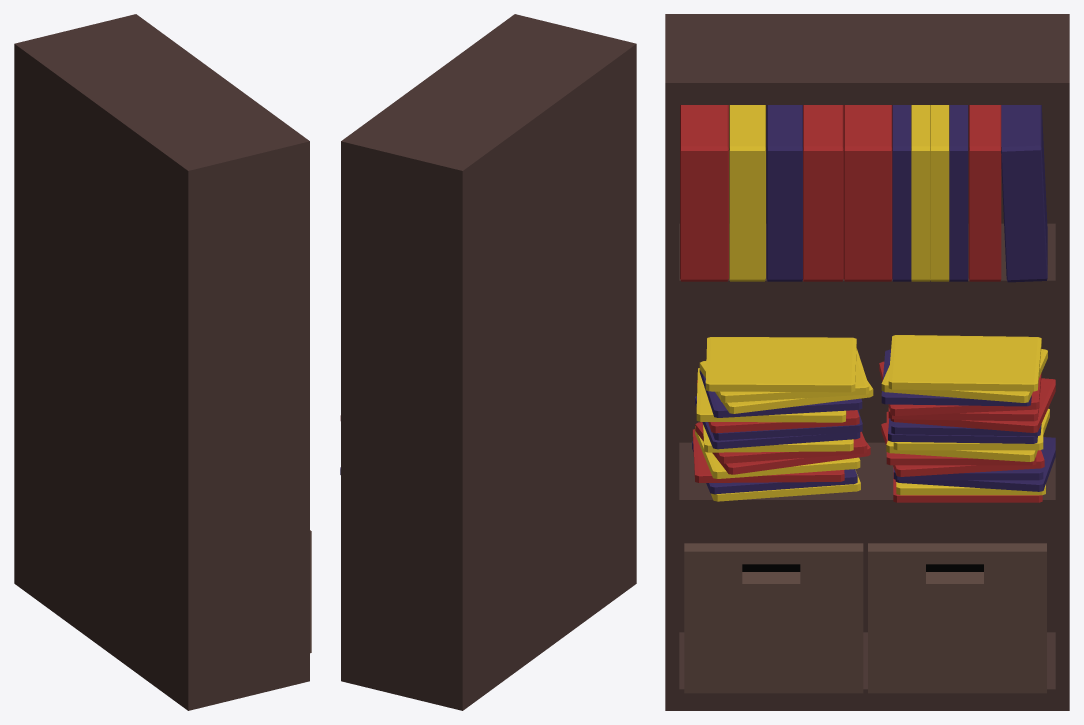
The model's file is bookShelf.fbx.
The picture shows the model from 3 angles, left to right: view 1: azimuth 30°, elevation 25°; view 2: azimuth 150°, elevation 25°; view 3: azimuth 270°, elevation 25°; orthographic projection. The views are drawn at different scales.
Parts seen in each view (by area): view 1: Cube; view 2: Cube; view 3: Cube, Cube.034, Cube.044, Cube.005, Cube.001, Cube.021, Cube.035, Cube.011, Cube.004, Cube.002, Cube.003, Cube.010 (+33 smaller).
Boxes of the visible parts, box(x1,y1,x2,y2) form: Cube: box(14, 14, 309, 710); Cube: box(341, 14, 636, 710); Cube: box(665, 14, 1069, 710); Cube.034: box(684, 543, 863, 693); Cube.044: box(868, 543, 1046, 693); Cube.005: box(843, 105, 892, 281); Cube.001: box(680, 105, 728, 281); Cube.021: box(888, 335, 1041, 391); Cube.035: box(705, 337, 856, 392); Cube.011: box(1001, 105, 1047, 282); Cube.004: box(803, 105, 843, 281); Cube.002: box(729, 105, 765, 281); Cube.003: box(766, 105, 802, 281); Cube.010: box(968, 105, 1001, 281).
Size of the model in its own units: 458 by 1723 by 1006.
